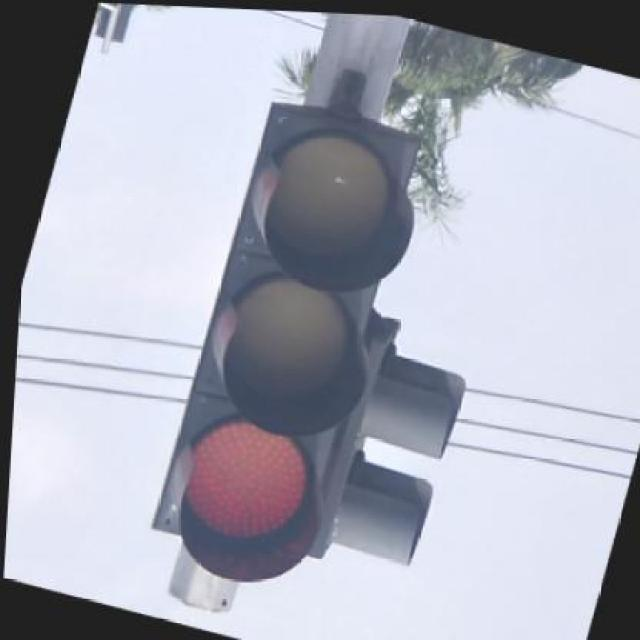red_light: (152, 102, 462, 609)
